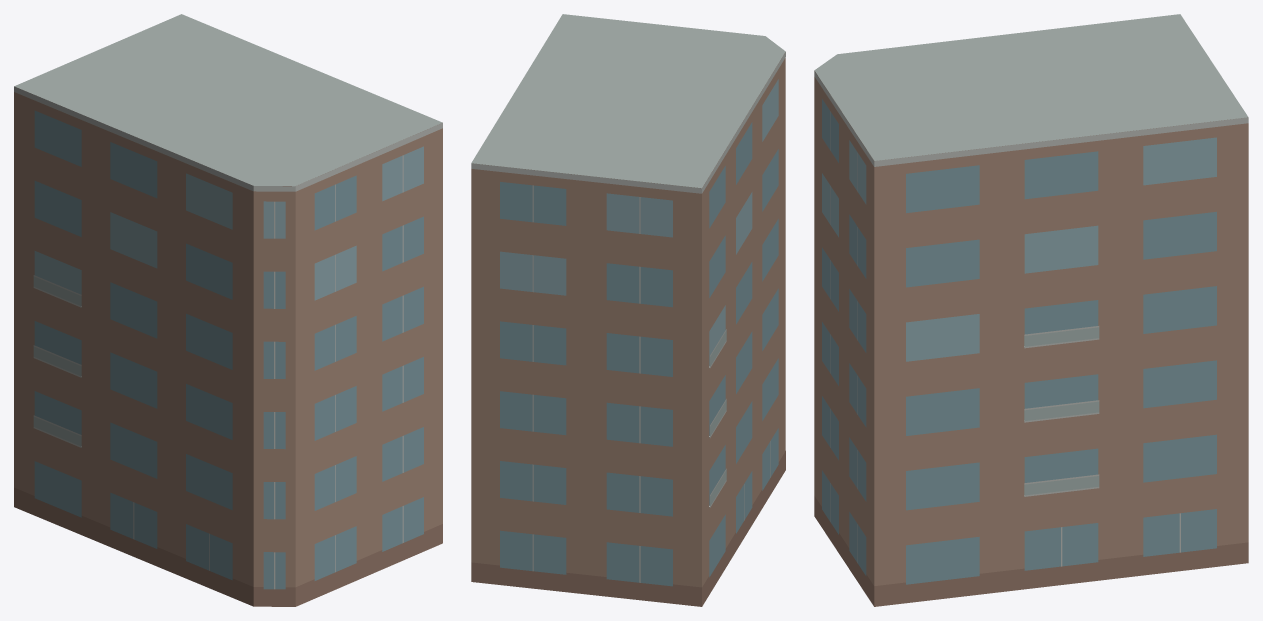
File: survey-upis-32565210.glb
The picture shows the model from 3 angles, left to right: view 1: azimuth 30°, elevation 25°; view 2: azimuth 150°, elevation 25°; view 3: azimuth 270°, elevation 25°; orthographic projection. The views are drawn at different scales.
Visible parts, largest first — view 1: survey-upis-32565210.tmp; view 2: survey-upis-32565210.tmp; view 3: survey-upis-32565210.tmp.
Boxes of the visible parts, x1=… form: survey-upis-32565210.tmp: x1=14, y1=14, x2=442, y2=606; survey-upis-32565210.tmp: x1=471, y1=14, x2=785, y2=606; survey-upis-32565210.tmp: x1=814, y1=14, x2=1248, y2=606.
Bounding box in the file's own units: 12.96 × 18.3 × 16.16.
